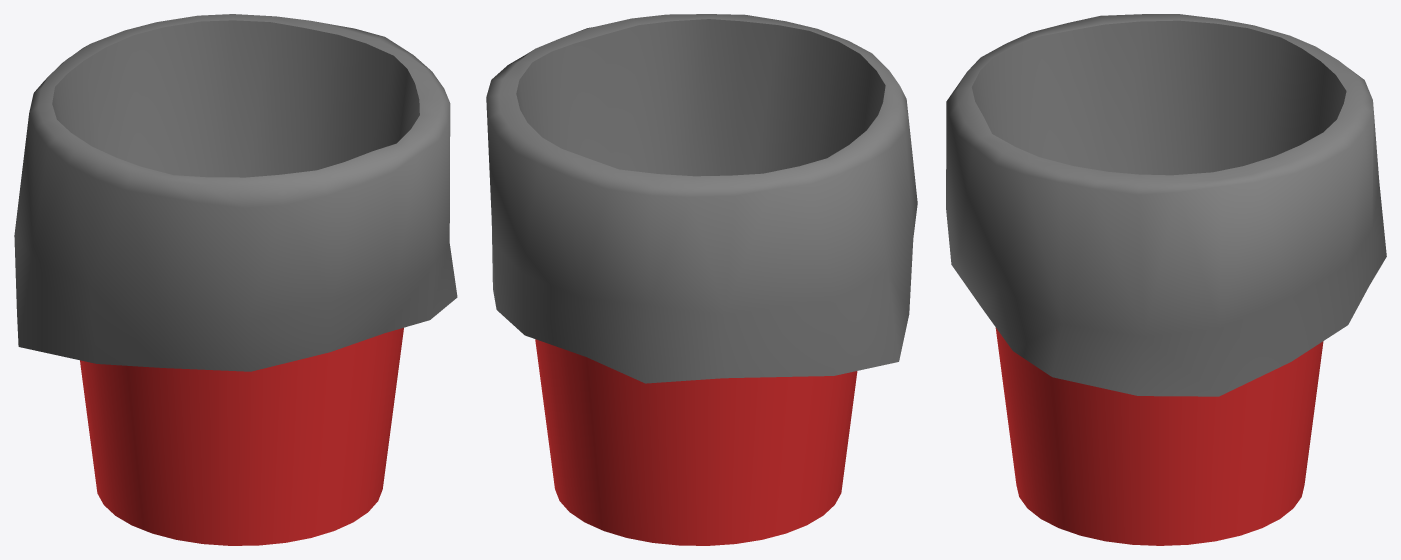
The model's file is TrashBucket.fbx.
The picture shows the model from 3 angles, left to right: view 1: azimuth 30°, elevation 25°; view 2: azimuth 150°, elevation 25°; view 3: azimuth 270°, elevation 25°; orthographic projection.
Parts seen in each view (by area): view 1: TrashBucket; view 2: TrashBucket; view 3: TrashBucket.
Part boxes in pixels (box(x1,y1,x2,y2)): TrashBucket: box(14, 14, 457, 545); TrashBucket: box(486, 14, 917, 545); TrashBucket: box(946, 14, 1386, 545).
Bounding box in the file's own units: 31.01 × 29.13 × 29.82.
